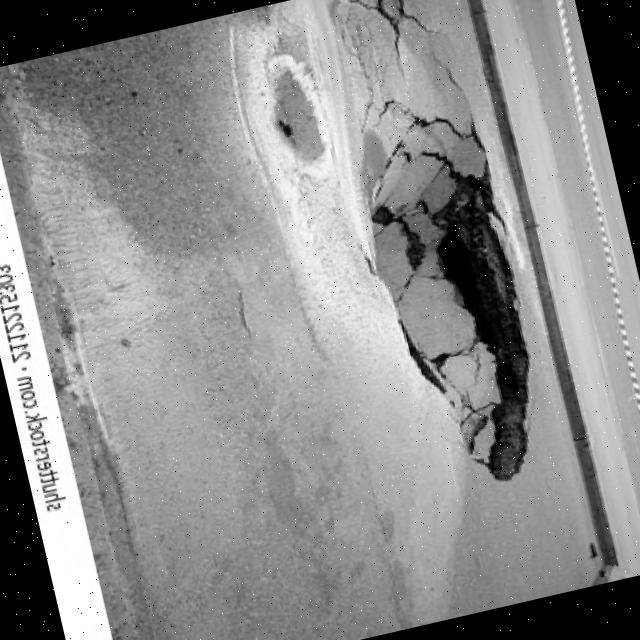road collapse: (137, 0, 637, 587)
